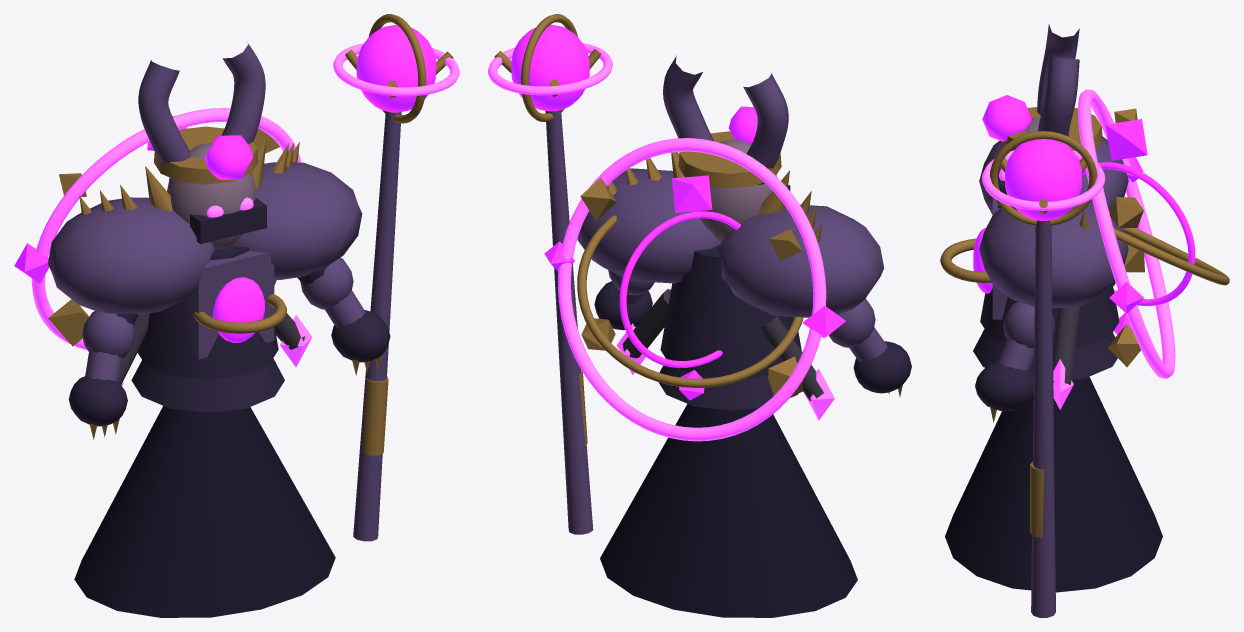
Rendered from kundun.glb.
The picture shows the model from 3 angles, left to right: view 1: azimuth 30°, elevation 25°; view 2: azimuth 150°, elevation 25°; view 3: azimuth 270°, elevation 25°; orthographic projection. The views are drawn at different scales.
Visible parts, largest first — view 1: kundun_floor_length_robe, kundun_spiked_pauldron_left, kundun_spiked_pauldron_right, kundun_staff_shaft, kundun_chest_cuirass, kundun_robe_waist_guard, kundun_halo_primary_ring, kundun_staff_chaos_orb, kundun_front_breastplate, kundun_crown_horn_left, kundun_face, kundun_crown_horn_right (+19 smaller); view 2: kundun_floor_length_robe, kundun_spiked_pauldron_left, kundun_halo_primary_ring, kundun_chest_cuirass, kundun_spiked_pauldron_right, kundun_staff_shaft, kundun_staff_chaos_orb, kundun_halo_crossing_ring, kundun_crown_horn_left, kundun_robe_waist_guard, kundun_crown_horn_right, kundun_halo_chaos_ring (+18 smaller); view 3: kundun_floor_length_robe, kundun_spiked_pauldron_right, kundun_staff_shaft, kundun_halo_primary_ring, kundun_staff_chaos_orb, kundun_chest_cuirass, kundun_crown_horn_right, kundun_gauntlet_right, kundun_robe_waist_guard, kundun_staff_orb_ring_z, kundun_halo_crossing_ring, kundun_halo_chaos_ring (+18 smaller).
Boxes of the visible parts, box(x1,y1,x2,y2) form: kundun_floor_length_robe: box(74, 406, 335, 617); kundun_spiked_pauldron_left: box(47, 197, 214, 314); kundun_spiked_pauldron_right: box(233, 162, 362, 279); kundun_staff_shaft: box(353, 111, 401, 541); kundun_chest_cuirass: box(137, 245, 278, 379); kundun_robe_waist_guard: box(131, 358, 284, 412); kundun_halo_primary_ring: box(31, 108, 301, 350); kundun_staff_chaos_orb: box(356, 24, 436, 112); kundun_front_breastplate: box(188, 251, 274, 359); kundun_crown_horn_left: box(138, 60, 191, 180); kundun_face: box(167, 143, 255, 249); kundun_crown_horn_right: box(221, 42, 265, 143); kundun_floor_length_robe: box(600, 404, 857, 617); kundun_spiked_pauldron_left: box(717, 204, 883, 317); kundun_halo_primary_ring: box(557, 138, 826, 441); kundun_chest_cuirass: box(660, 244, 801, 377); kundun_spiked_pauldron_right: box(577, 168, 720, 283); kundun_staff_shaft: box(545, 110, 593, 534); kundun_staff_chaos_orb: box(511, 24, 589, 111); kundun_halo_crossing_ring: box(577, 215, 803, 387); kundun_crown_horn_left: box(743, 73, 788, 185); kundun_robe_waist_guard: box(658, 365, 797, 410); kundun_crown_horn_right: box(663, 55, 713, 141); kundun_halo_chaos_ring: box(619, 211, 740, 368); kundun_floor_length_robe: box(945, 376, 1162, 592); kundun_spiked_pauldron_right: box(979, 193, 1128, 308); kundun_staff_shaft: box(1031, 220, 1055, 617); kundun_halo_primary_ring: box(1078, 89, 1175, 378); kundun_staff_chaos_orb: box(1005, 139, 1081, 220); kundun_chest_cuirass: box(980, 286, 1119, 350); kundun_crown_horn_right: box(1038, 57, 1079, 136); kundun_gauntlet_right: box(975, 362, 1033, 411); kundun_robe_waist_guard: box(973, 329, 1117, 379); kundun_staff_orb_ring_z: box(989, 131, 1097, 225); kundun_halo_crossing_ring: box(1113, 228, 1229, 285); kundun_halo_chaos_ring: box(1082, 162, 1195, 306).
Bounding box in the file's own units: 4.31 × 5.34 × 2.79.
